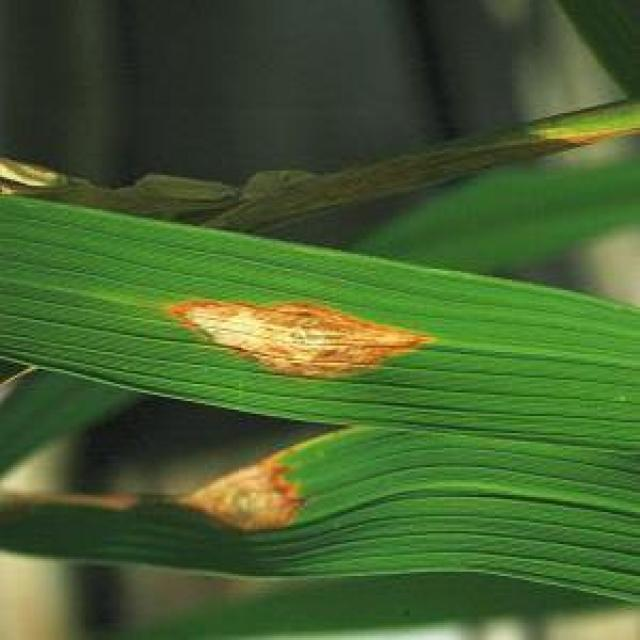Blast: (174, 296, 436, 379), (188, 467, 309, 516)
